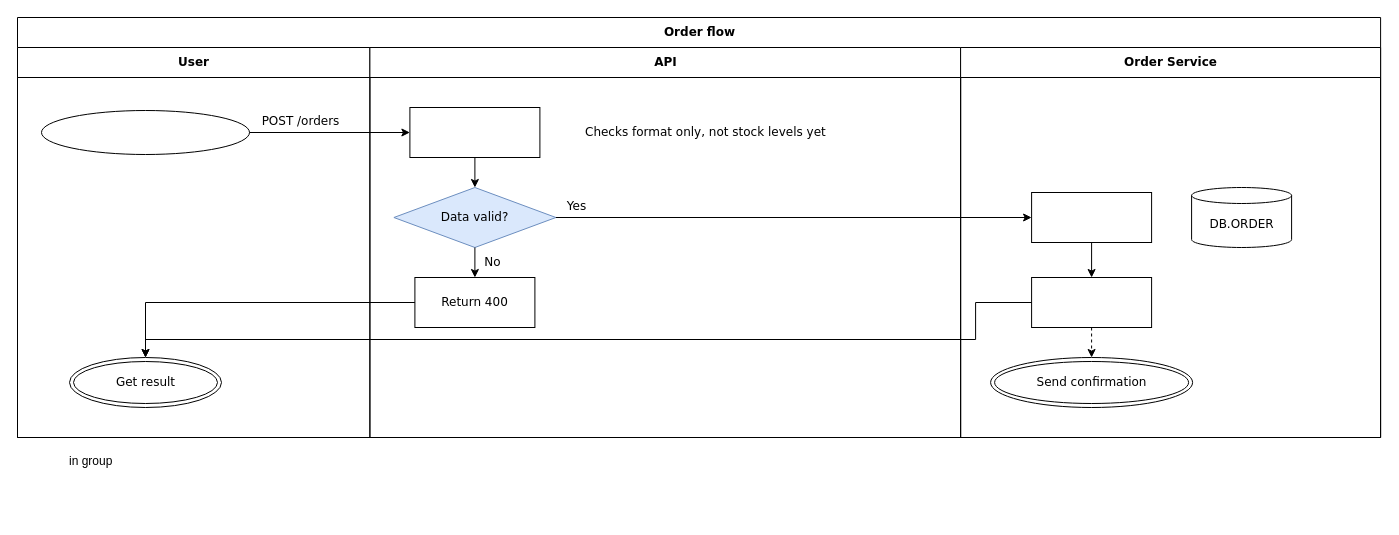
Image size: 1399x535. Some labels were removed from this diagram. Here are the shapes that lost their labels. From the top down, the centre of each, then its label:
At [145,132]: "Submit order request".
At [474,132]: "Validate data".
At [1091,217]: "Create order".
At [1091,302]: "Return result".
